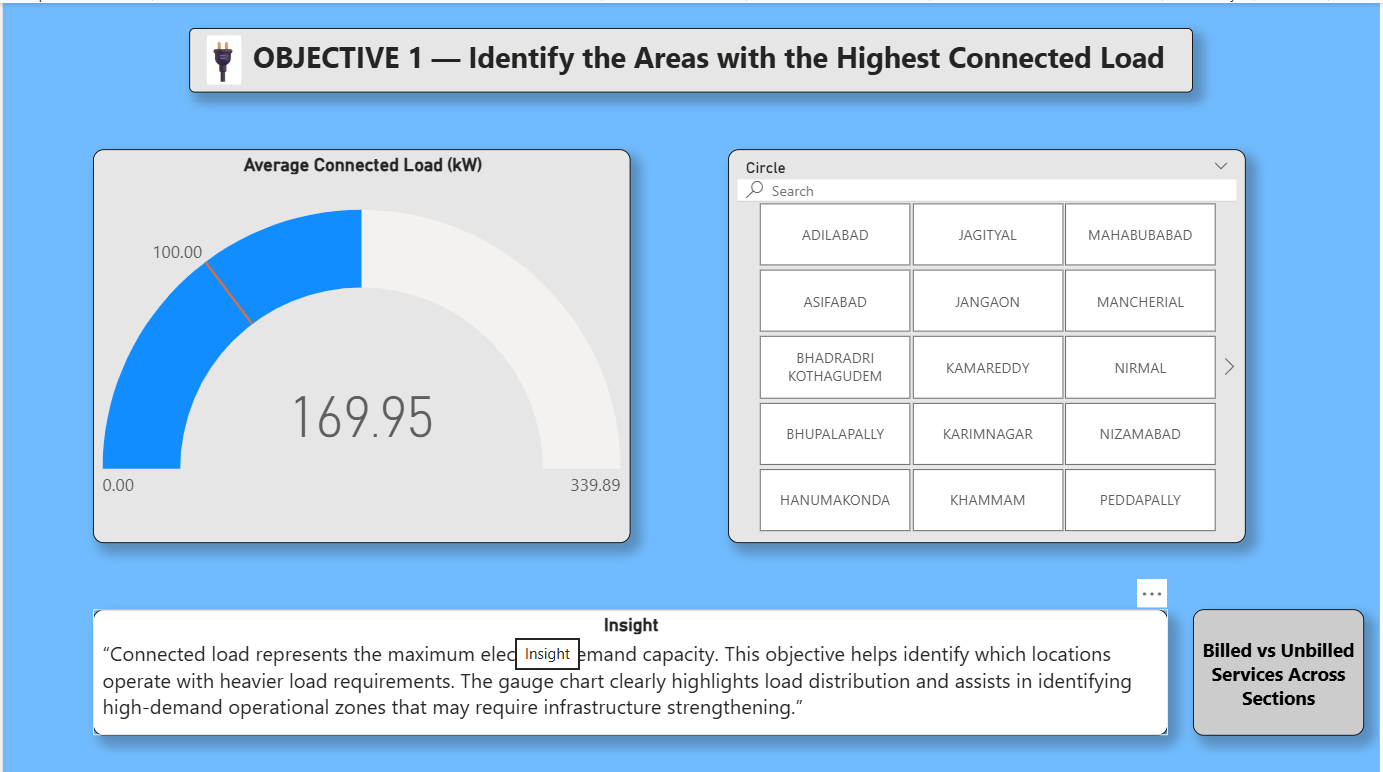

What the dashboard file says about the page in this screenshot:
{"tool":"powerbi","page":{"name":"Load Analysis","canvas":[1280,720],"ordinal":2},"visuals":[{"type":"textbox","box":[173.3,23.3,933.3,60],"z":0},{"type":"gauge","title":"Average Connected Load (kW)","fields":{"Y":["TG-NPDCL_consumption_detail_commercial_OCTOBER-2025.Average Load kW"]},"box":[83.7,136,500,366.3],"z":1000},{"type":"slicer","fields":{"Values":["TG-NPDCL_consumption_detail_commercial_OCTOBER-2025.Circle"]},"box":[674.4,136,481.4,366.3],"z":2000},{"type":"textbox","title":"Insight","box":[83.7,564,1000,117.4],"z":3000},{"type":"actionButton","box":[1107,564,159.3,117.4],"z":4000},{"type":"image","box":[186.7,30,36.7,45.6],"z":5000}]}

Visuals, with their boxes in screenshot pixels (x1, y1, x2, y2), scaled from the page's 1280x720 canvas onto the 1383x772 screenshot:
textbox: [x1=187, y1=25, x2=1196, y2=89]
"Average Connected Load (kW)" gauge: [x1=90, y1=146, x2=631, y2=539]
slicer - TG-NPDCL_consumption_detail_commercial_OCTOBER-2025.Circle: [x1=729, y1=146, x2=1249, y2=539]
"Insight" textbox: [x1=90, y1=605, x2=1171, y2=731]
actionButton: [x1=1196, y1=605, x2=1368, y2=731]
image: [x1=202, y1=32, x2=241, y2=81]
